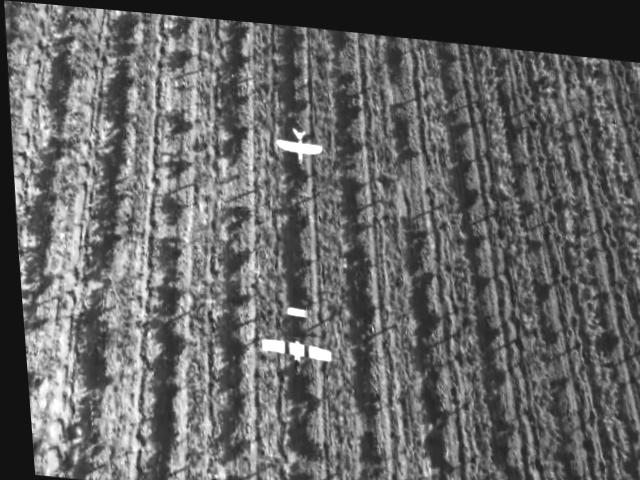hedef: (246, 290, 338, 388)
